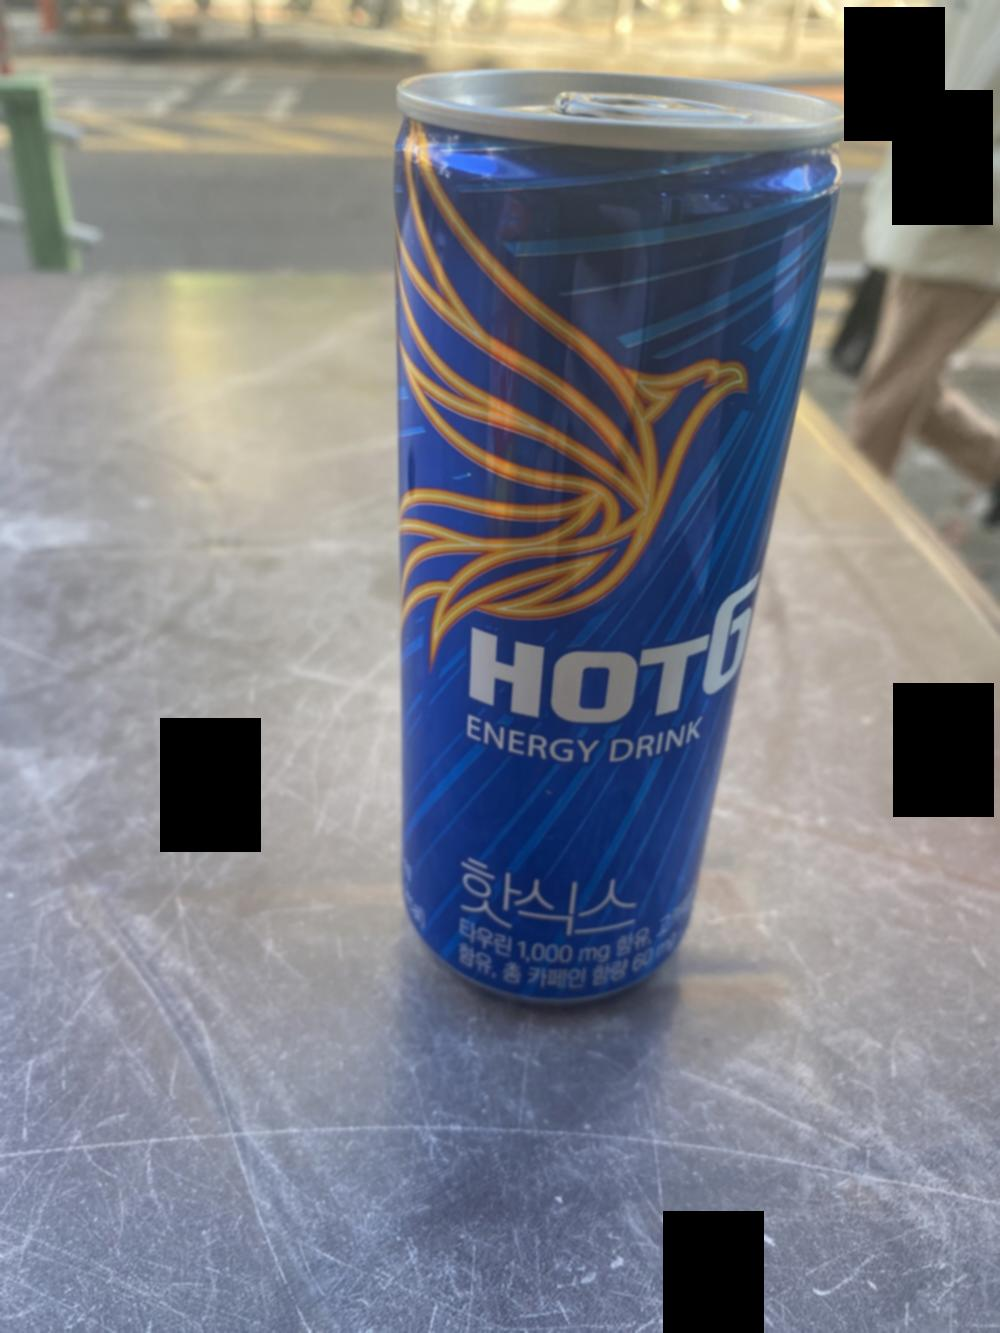hotsix_org: (386, 54, 848, 1016)
